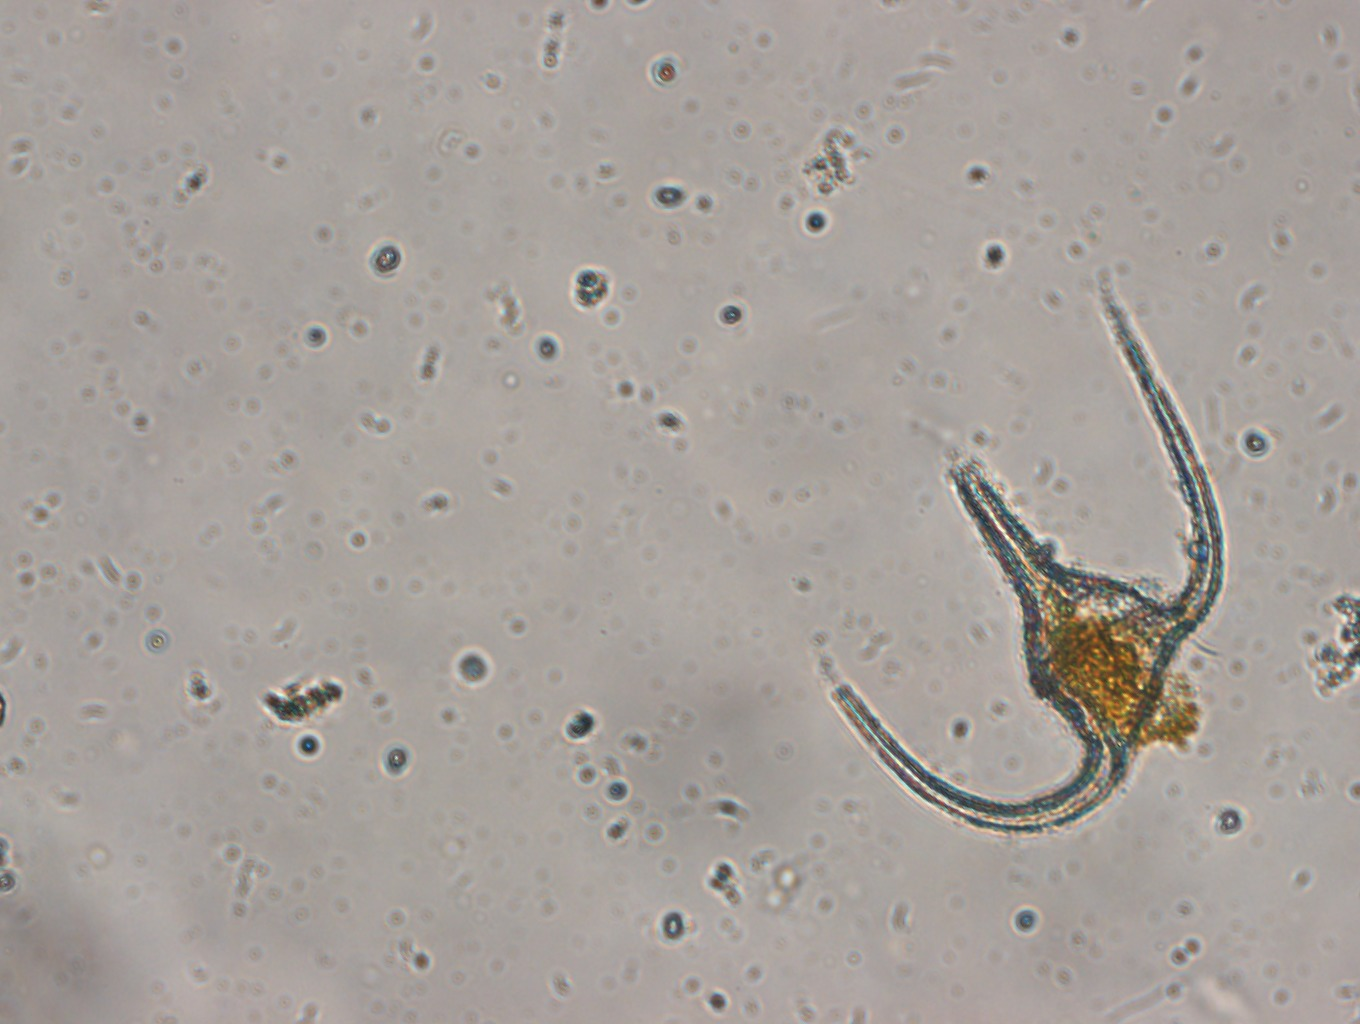ceratium trichoceros: (812, 272, 1233, 843)
